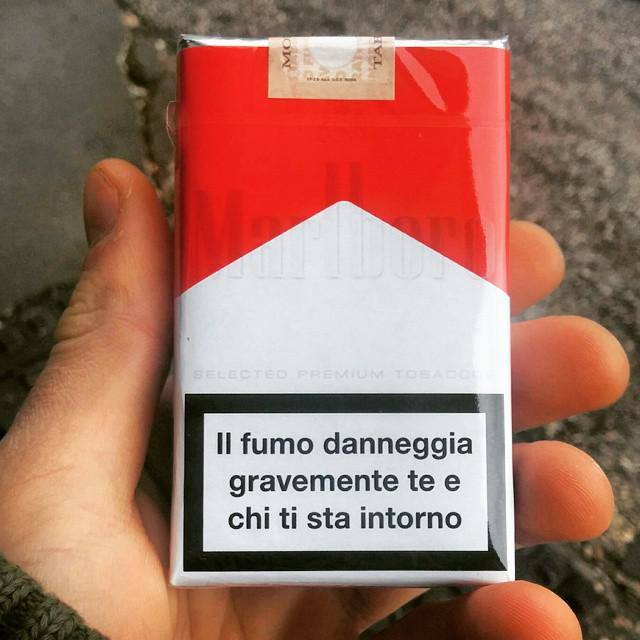marlboro_red: (175, 40, 506, 585)
